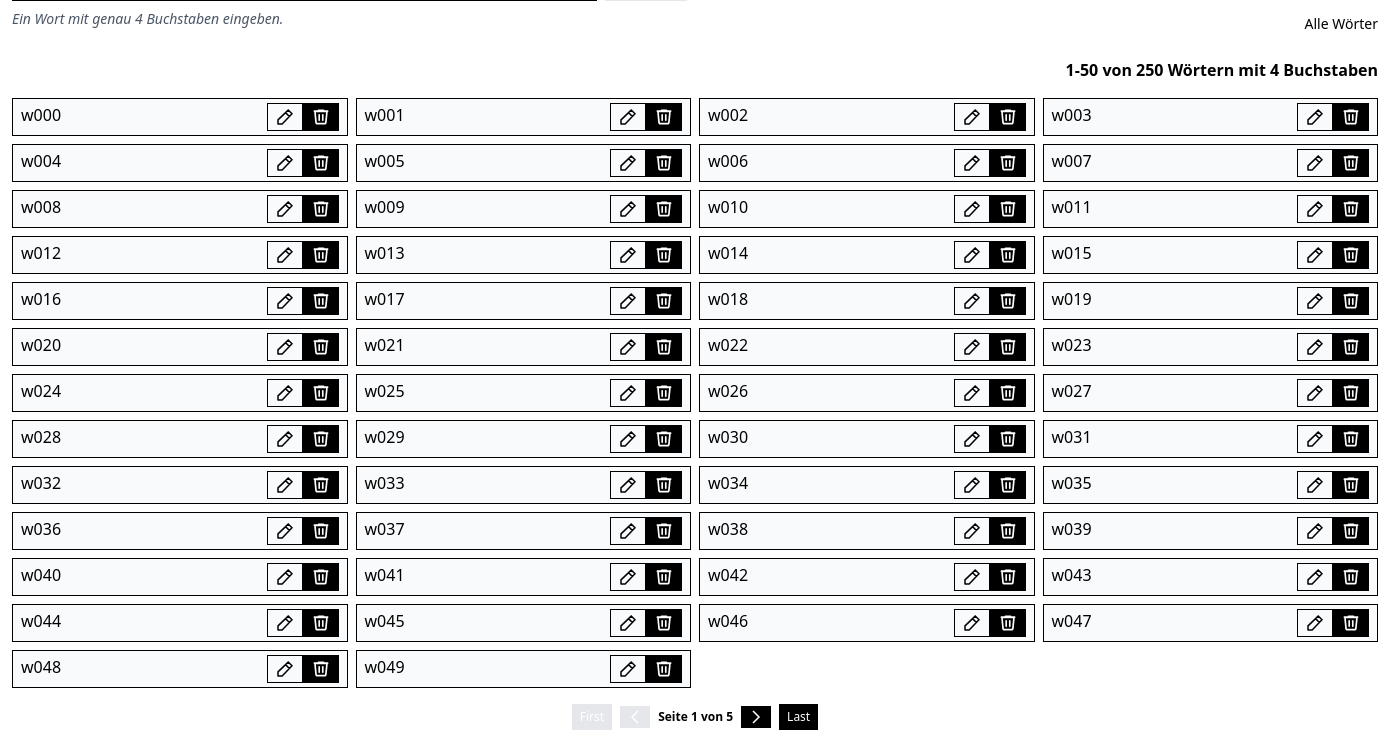
Scenario: WortigerWordList › requests the next page with the correct offset
(page scrolled)
Expected: the text "1-50 von 250 Wörtern mit 4 Buchstaben" is shown, [1066,59,1378,81]
Click the button named "Next page". click: (756, 717)
box: [741,706,771,728]
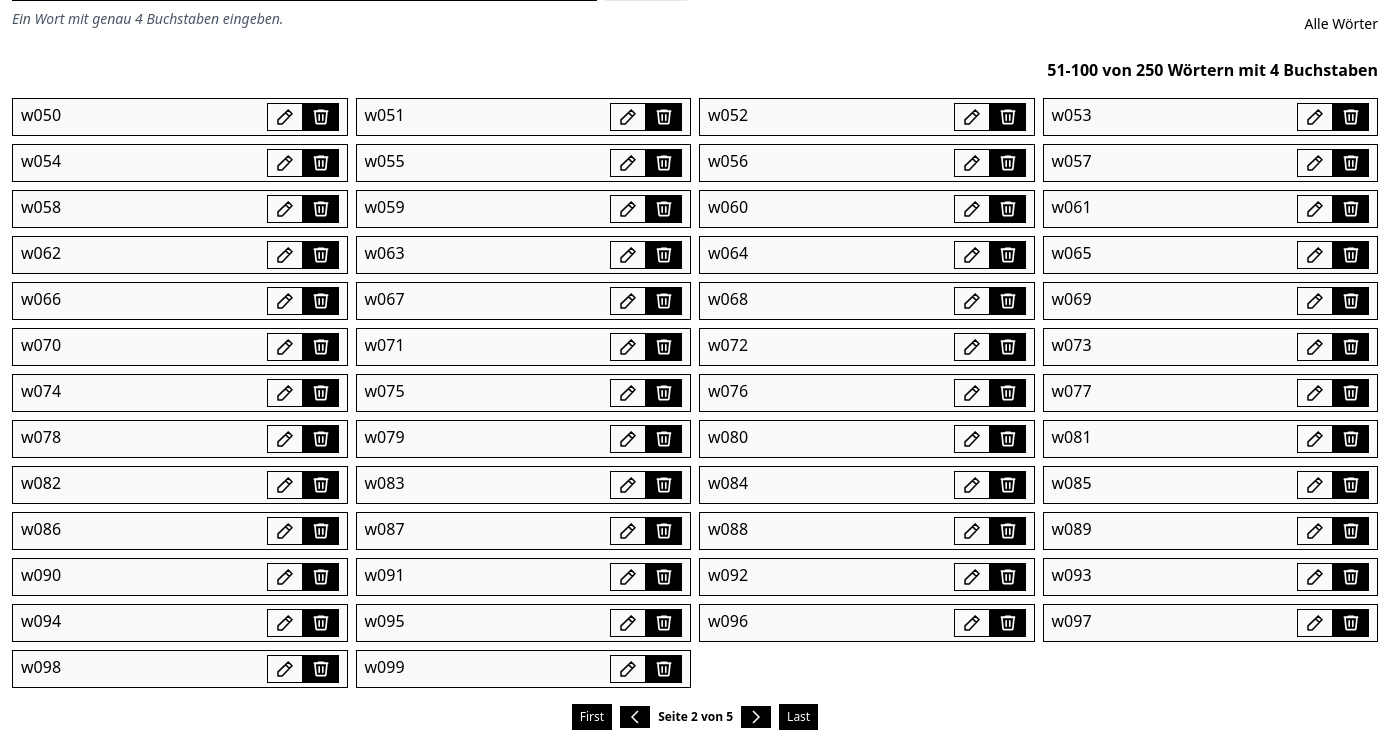
Now the text "51-100 von 250 Wörtern mit 4 Buchstaben" is shown, box [1047,59,1378,81]
